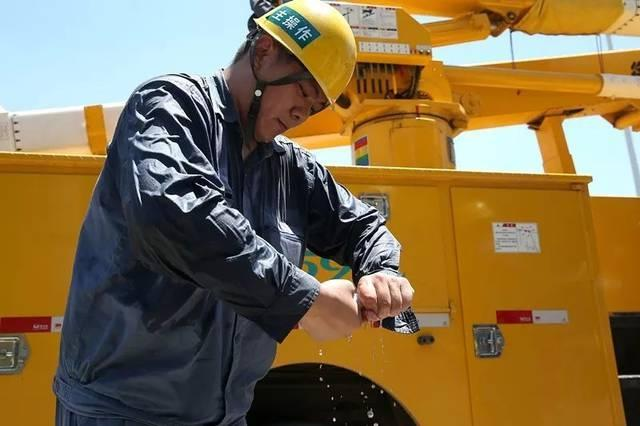helmet: (250, 0, 438, 105)
wear: (85, 153, 307, 412)
